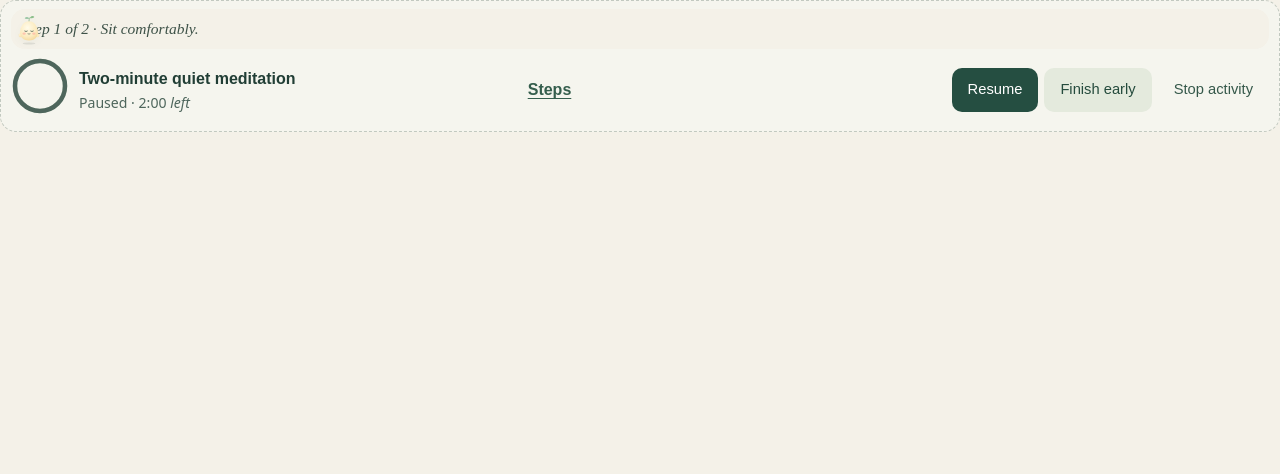
it: inline activity lifecycle › started-session controls and check-in remain usable at the ordinary message limit
The image size is (1280, 474).
Click the button "Finish early" at (1098, 90), box [1044,68,1152,112]
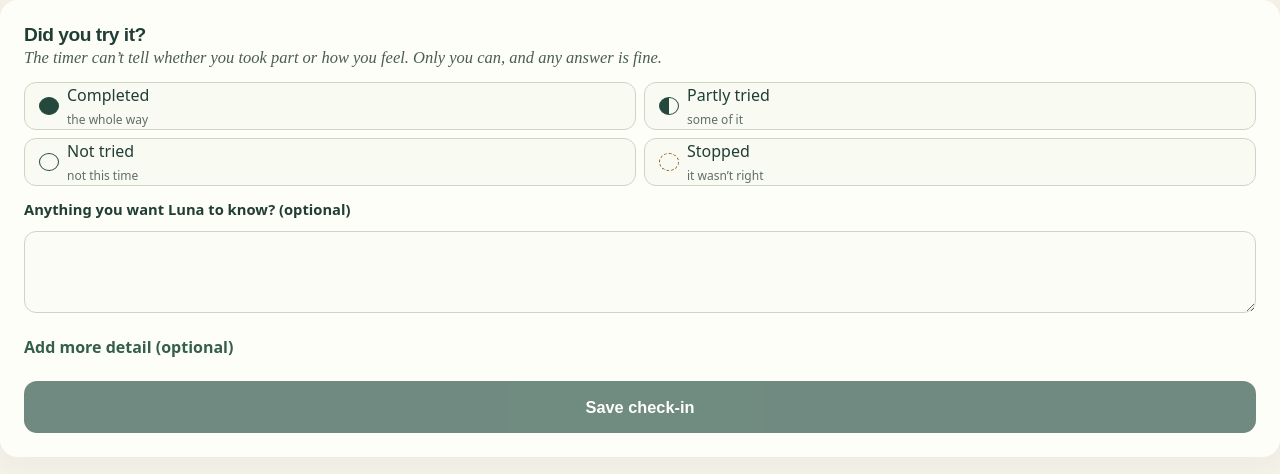
Expected: the radio button labelled "Not tried not this time" is enabled, [39,153,59,171]
